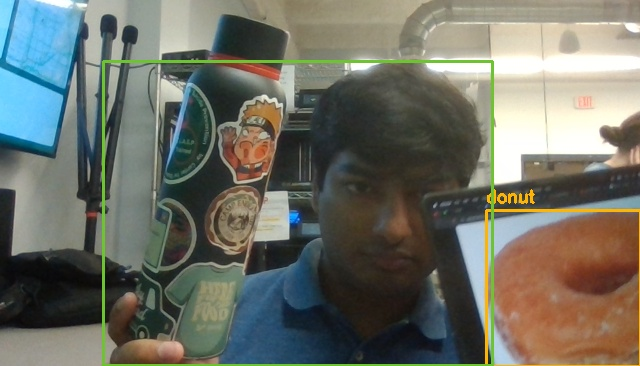donut: (486, 210, 640, 366)
